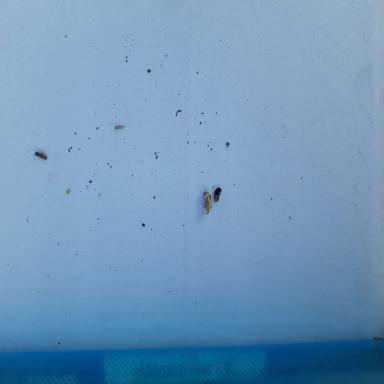pbw: (34, 148, 48, 162)
